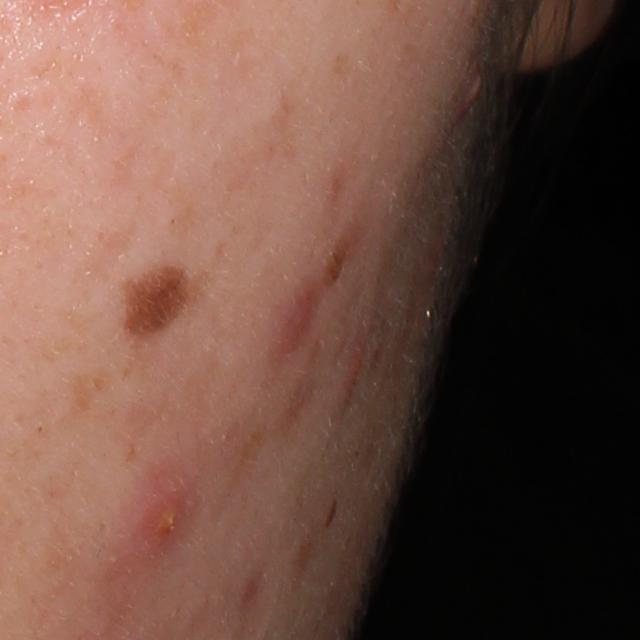nevus: (115, 256, 193, 337)
papule: (274, 291, 318, 355), (143, 499, 190, 554), (338, 342, 367, 398)
